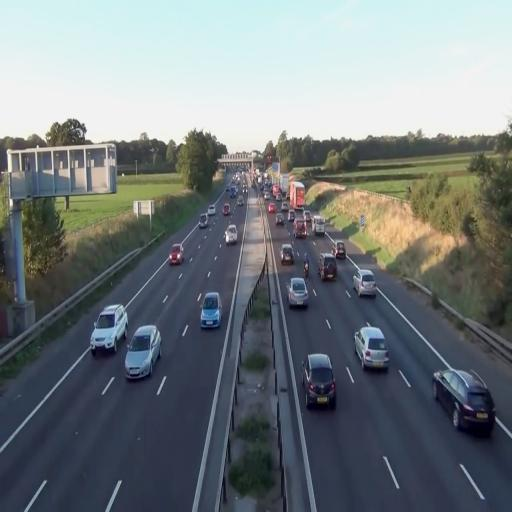vehicle: (432, 367, 496, 434), (124, 324, 162, 380), (303, 352, 337, 411), (90, 303, 128, 353), (354, 326, 389, 370), (200, 292, 222, 330), (288, 277, 310, 309), (357, 270, 377, 300), (288, 180, 305, 210), (320, 254, 338, 282), (168, 244, 184, 266), (280, 243, 294, 266), (224, 223, 238, 245)
